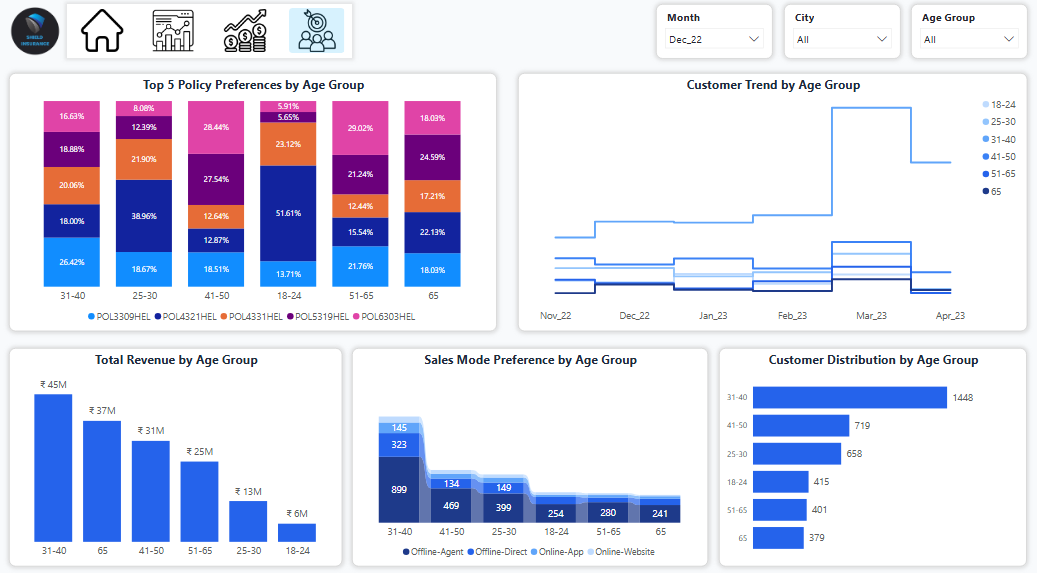

What the dashboard file says about the page in this screenshot:
{"tool":"powerbi","page":{"name":"Age Group View","canvas":[1600,900],"ordinal":3},"visuals":[{"type":"slicer","fields":{"Values":["dim_date.mmm_yy"]},"box":[1011.8,10.7,178.8,84],"z":0},{"type":"group","id":"g1","title":"Group 2","box":[109.3,11.1,437,83.3],"z":0,"group":"g2"},{"type":"shape","box":[109.3,11.1,437,83.3],"z":0,"group":"g1"},{"type":"slicer","fields":{"Values":["dim_customer.city"]},"box":[1208.5,10.7,178.8,84],"z":1000},{"type":"actionButton","box":[122.8,18,81,67],"z":1000,"group":"g2"},{"type":"image","box":[123.9,18.9,77,65.9],"z":1000,"group":"g1"},{"type":"slicer","fields":{"Values":["dim_customer.Age Group"]},"box":[1403.4,10.7,178.8,84],"z":2000},{"type":"actionButton","box":[449,17,85,69],"z":2000,"group":"g2"},{"type":"image","box":[234.2,18.9,77,65.9],"z":2000,"group":"g1"},{"type":"actionButton","box":[233,16.2,79.4,68.5],"z":3000,"group":"g2"},{"type":"image","box":[344.5,18.9,77,65.9],"z":3000,"group":"g1"},{"type":"hundredPercentStackedColumnChart","title":"Top 5 Policy Preferences by Age Group","fields":{"Category":["dim_customer.Age Group"],"Series":["dim_policies.policy_id"],"Y":["Key_measures.Policy Count"]},"box":[20.4,116.7,748.1,396.3],"z":3000},{"type":"actionButton","box":[344,18,76.9,64],"z":4000,"group":"g2"},{"type":"image","box":[454.8,18.9,77,65.9],"z":4000,"group":"g1"},{"type":"clusteredColumnChart","fields":{"Category":["dim_customer.Age Group"],"Y":["Key_measures.Total Revenue"]},"box":[20.4,538.9,511.1,335.2],"z":4000},{"type":"columnChart","title":"Sales Mode Preference by Age Group","fields":{"Category":["dim_customer.Age Group"],"Series":["fact_premiums.sales_mode"],"Y":["Key_measures.Policy Count"]},"box":[546.3,538.9,546.3,335.2],"z":5000},{"type":"lineChart","title":"Customer Trend by Age Group","fields":{"Category":["dim_date.mmm_yy"],"Series":["dim_customer.Age Group"],"Y":["Key_measures.Total Customers"]},"box":[800,116.7,781.5,396.3],"z":6000},{"type":"barChart","title":"Customer Distribution by Age Group","fields":{"Category":["dim_customer.Age Group"],"Y":["Key_measures.Total Customers"]},"box":[1109.3,538.9,472.2,335.2],"z":7000},{"type":"image","box":[20.4,11.1,79.6,83.3],"z":8000},{"type":"group","id":"g2","title":"Group 1","box":[109.3,11.1,437,83.3],"z":9000}]}

Visuals, with their boxes in screenshot pixels (x1, y1, x2, y2), scaled from the page's 1600x900 canvas onto the 1037x576 screenshot:
slicer - dim_date.mmm_yy: bbox=[656, 7, 772, 61]
"Group 2" group: bbox=[71, 7, 354, 60]
shape: bbox=[71, 7, 354, 60]
slicer - dim_customer.city: bbox=[783, 7, 899, 61]
actionButton: bbox=[80, 12, 132, 54]
image: bbox=[80, 12, 130, 54]
slicer - dim_customer.Age Group: bbox=[910, 7, 1025, 61]
actionButton: bbox=[291, 11, 346, 55]
image: bbox=[152, 12, 202, 54]
actionButton: bbox=[151, 10, 202, 54]
image: bbox=[223, 12, 273, 54]
"Top 5 Policy Preferences by Age Group" hundredPercentStackedColumnChart: bbox=[13, 75, 498, 328]
actionButton: bbox=[223, 12, 273, 52]
image: bbox=[295, 12, 345, 54]
clusteredColumnChart - dim_customer.Age Group x Key_measures.Total Revenue: bbox=[13, 345, 344, 559]
"Sales Mode Preference by Age Group" columnChart: bbox=[354, 345, 708, 559]
"Customer Trend by Age Group" lineChart: bbox=[518, 75, 1025, 328]
"Customer Distribution by Age Group" barChart: bbox=[719, 345, 1025, 559]
image: bbox=[13, 7, 65, 60]
"Group 1" group: bbox=[71, 7, 354, 60]
